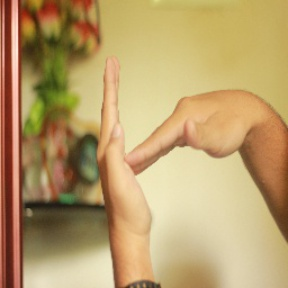Z: (89, 47, 251, 242)
